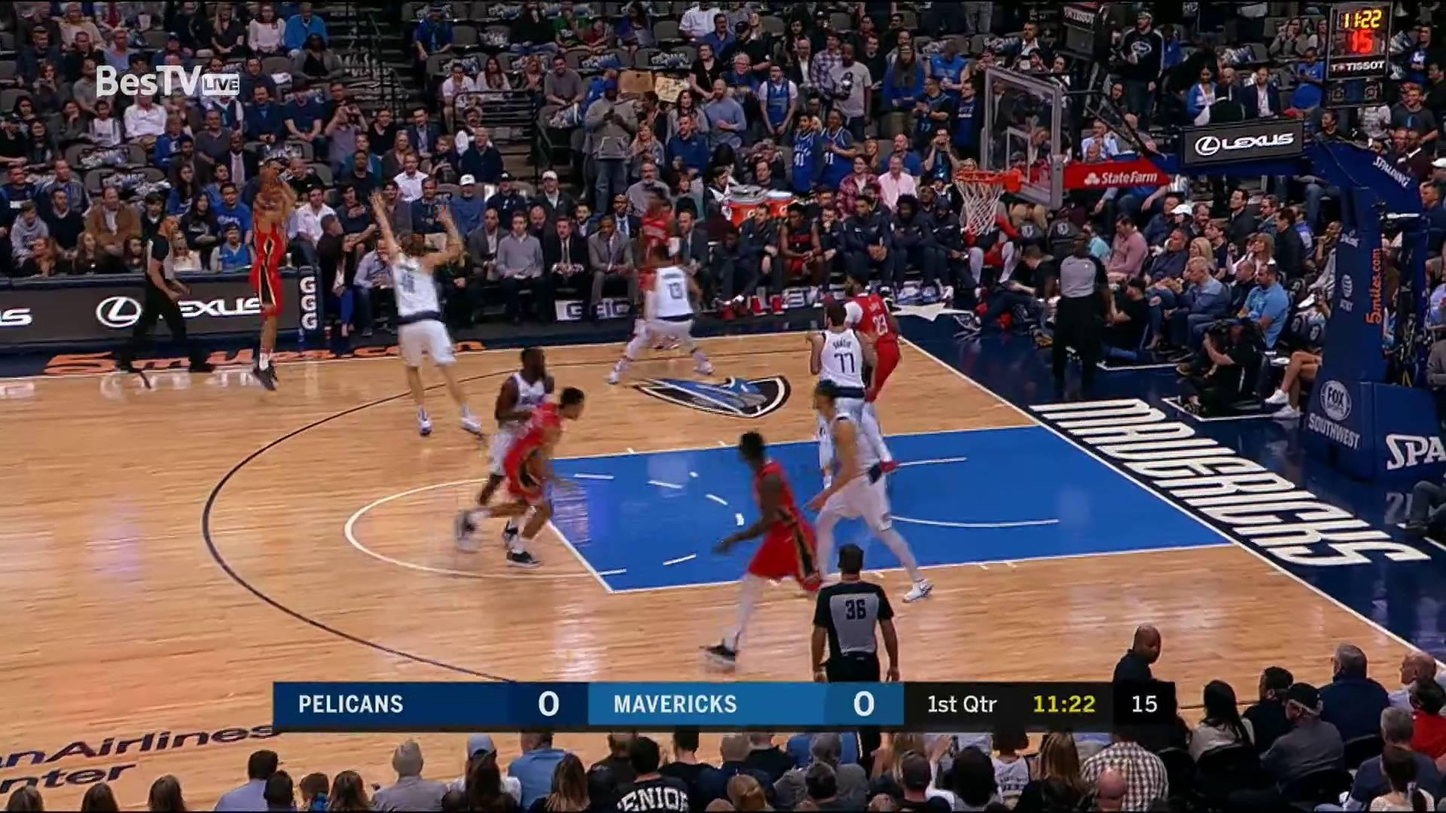basketball: (259, 158, 286, 191)
